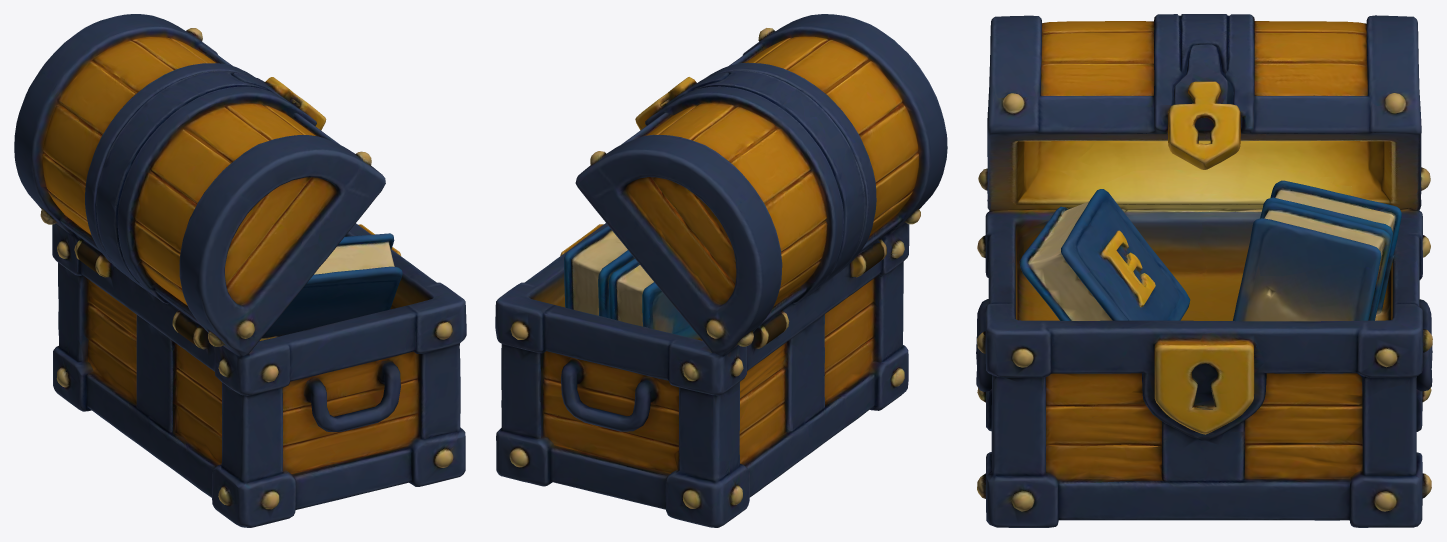
File: bau.glb
The picture shows the model from 3 angles, left to right: view 1: azimuth 30°, elevation 25°; view 2: azimuth 150°, elevation 25°; view 3: azimuth 270°, elevation 25°; orthographic projection. The views are drawn at different scales.
Parts seen in each view (by area): view 1: tripo_node_7e2752e0-f013-41a4-889b-7e25441ada61; view 2: tripo_node_7e2752e0-f013-41a4-889b-7e25441ada61; view 3: tripo_node_7e2752e0-f013-41a4-889b-7e25441ada61.
Part boxes in pixels (bbox=[...]): tripo_node_7e2752e0-f013-41a4-889b-7e25441ada61: bbox=[14, 14, 466, 527]; tripo_node_7e2752e0-f013-41a4-889b-7e25441ada61: bbox=[495, 14, 947, 527]; tripo_node_7e2752e0-f013-41a4-889b-7e25441ada61: bbox=[976, 14, 1432, 527].
Bounding box in the file's own units: 0.79 × 1 × 0.9996.
Materials: 1 (1 with a texture image).
